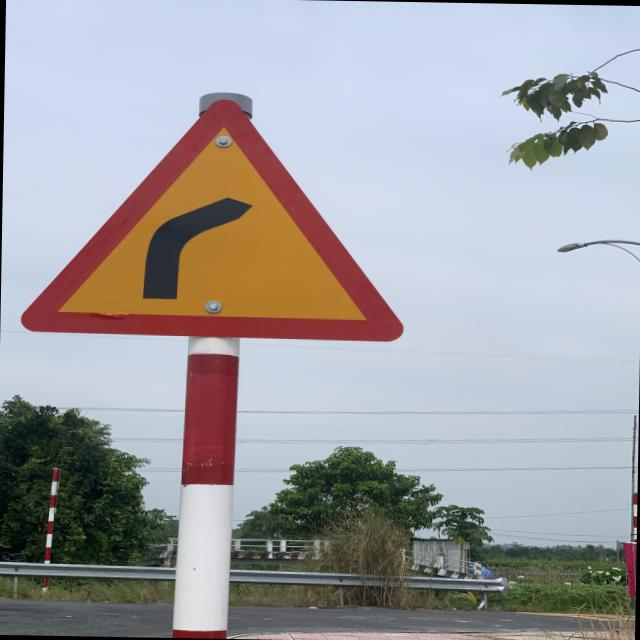Duong_Nguoi_Di_Bo_Cat_Ngang: (19, 95, 407, 342)
